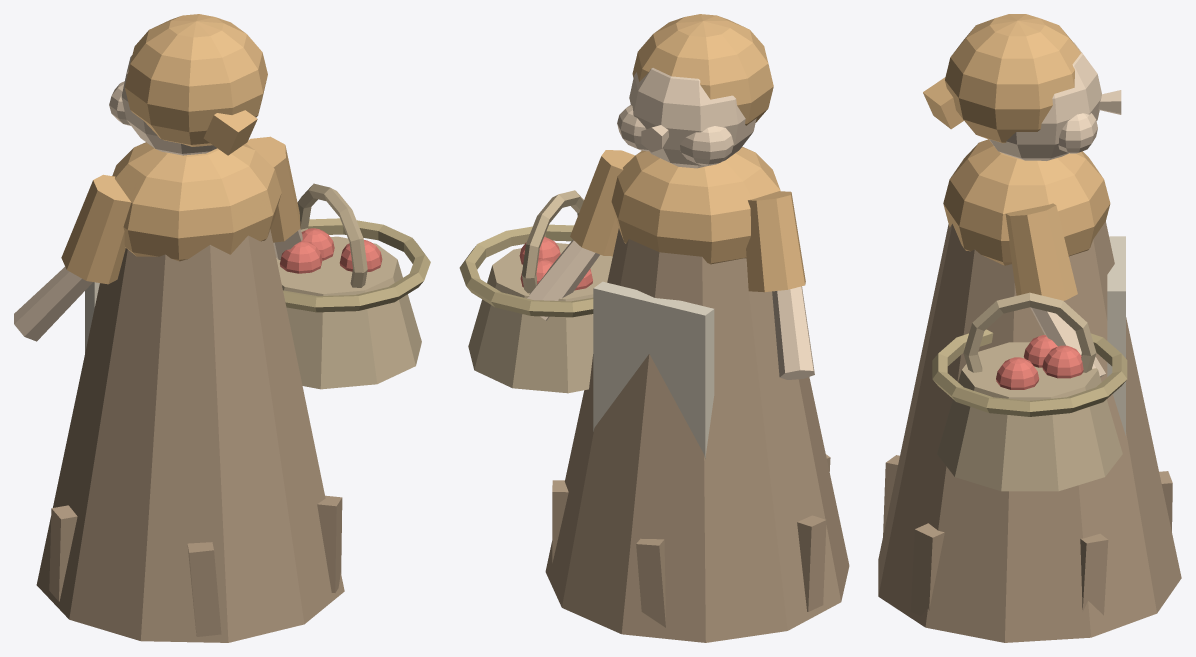
The model's file is tilla_gleaner.glb.
The picture shows the model from 3 angles, left to right: view 1: azimuth 30°, elevation 25°; view 2: azimuth 150°, elevation 25°; view 3: azimuth 270°, elevation 25°; orthographic projection.
Parts seen in each view (by area): view 1: Dress, Torso, Scarf, Basket, SleeveL, BasketRim, ForearmL, DressFold3, SleeveR, BasketHandle, DressFold2, DressFold4 (+5 smaller); view 2: Dress, Torso, Apron, Basket, Scarf, Head, SleeveL, BasketRim, SleeveR, ForearmL, ForearmR, DressFold2 (+6 smaller); view 3: Dress, Basket, Torso, Scarf, SleeveR, BasketRim, Head, BasketHandle, Apron, DressFold4, DressFold0, Cheeks (+8 smaller).
Boxes of the visible parts, bbox=[...] form: Dress: bbox=[36, 229, 344, 642]; Torso: bbox=[112, 142, 281, 261]; Scarf: bbox=[124, 14, 267, 146]; Basket: bbox=[276, 236, 421, 389]; SleeveL: bbox=[61, 174, 131, 284]; BasketRim: bbox=[283, 218, 430, 312]; ForearmL: bbox=[14, 267, 92, 341]; DressFold3: bbox=[187, 542, 221, 636]; SleeveR: bbox=[246, 136, 300, 242]; BasketHandle: bbox=[297, 183, 367, 287]; DressFold2: bbox=[49, 505, 77, 601]; DressFold4: bbox=[317, 495, 342, 592]; Dress: bbox=[545, 228, 849, 642]; Torso: bbox=[611, 146, 780, 264]; Apron: bbox=[593, 281, 714, 458]; Basket: bbox=[468, 243, 612, 393]; Scarf: bbox=[632, 14, 773, 125]; Head: bbox=[629, 68, 756, 168]; SleeveL: bbox=[746, 191, 805, 292]; BasketRim: bbox=[459, 224, 593, 317]; SleeveR: bbox=[570, 150, 634, 256]; ForearmL: bbox=[772, 286, 814, 379]; ForearmR: bbox=[527, 240, 599, 320]; DressFold2: bbox=[797, 515, 826, 611]; Dress: bbox=[878, 221, 1181, 642]; Basket: bbox=[937, 342, 1122, 491]; Torso: bbox=[943, 139, 1110, 265]; Scarf: bbox=[945, 14, 1080, 143]; SleeveR: bbox=[1005, 203, 1077, 300]; BasketRim: bbox=[932, 329, 1127, 416]; Head: bbox=[989, 42, 1101, 160]; BasketHandle: bbox=[963, 292, 1096, 372]; Apron: bbox=[1107, 236, 1125, 435]; DressFold4: bbox=[910, 523, 944, 616]; DressFold0: bbox=[1080, 533, 1108, 615]; Cheeks: bbox=[1058, 113, 1097, 153].
Size of the model in its own units: 1.39 by 1.99 by 0.9797.
